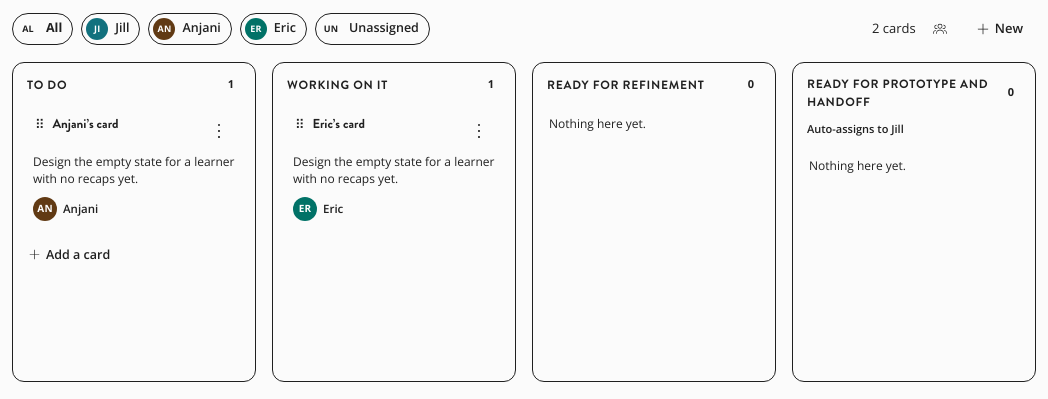
Test: TodoBoardPanel › filters the board to one person, and says so in a column that empties
Check: the button with aria-label "New card" is shown, box [964, 12, 1036, 46]
Check: the element labelled "To Do" is shown, box [12, 62, 256, 382]
Click the button "ER Eric".
click(273, 29)  # box [240, 13, 307, 45]
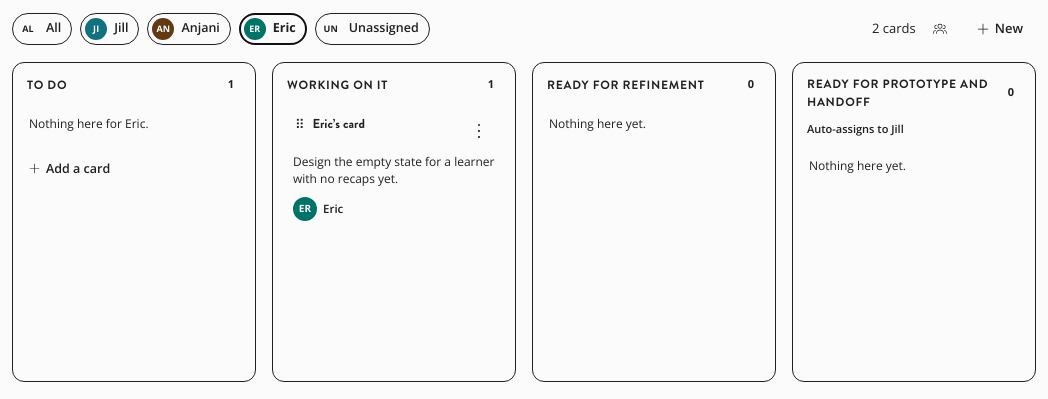
Check: the heading "Eric’s card" is shown, box [312, 114, 365, 132]
Check: the heading "Anjani’s card" is gone
Check: the text "Nothing here for Eric." is shown, box [29, 114, 149, 132]
